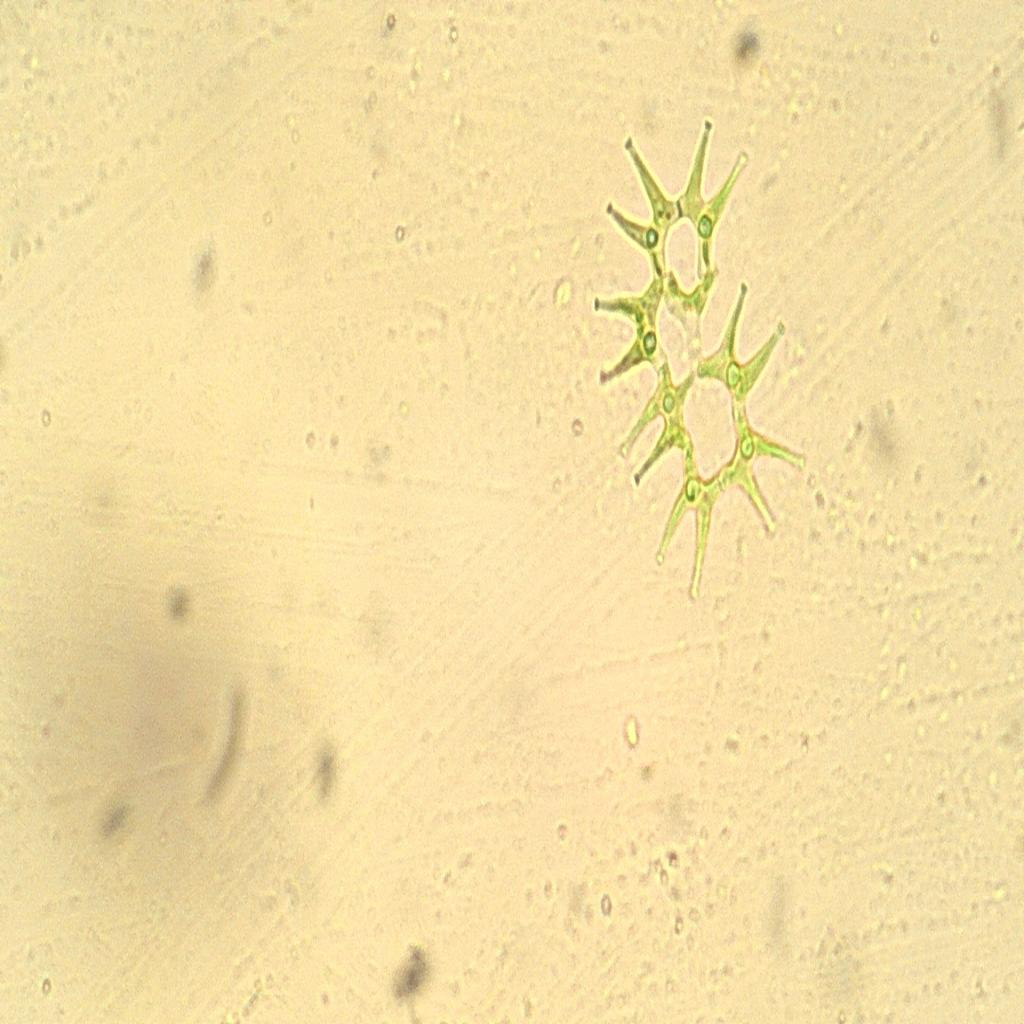Pediastrum_CFI: (580, 83, 822, 619)
